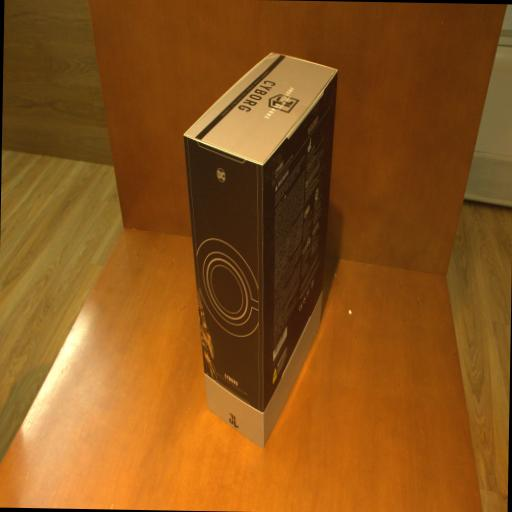Cyborg: (178, 51, 339, 449)
